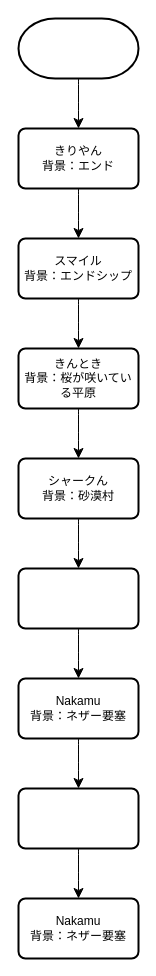
This 156x976 diagram has some shape labels left out. Each missing label, with the centre of its shape:
brooook 背景：歪んだ森の ピグリン砦: the point at 78,598
シーン開始: the point at 78,48
スマホ画面 （指令を表示）: the point at 78,818
